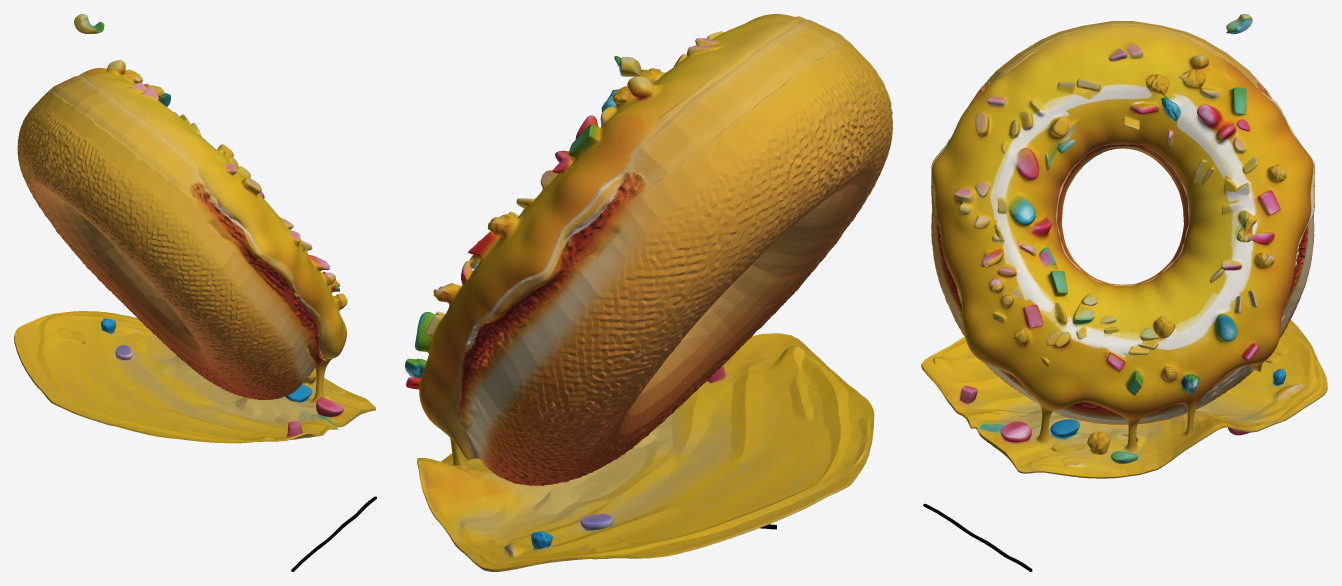
File: yellow-donut.glb
The picture shows the model from 3 angles, left to right: view 1: azimuth 30°, elevation 25°; view 2: azimuth 150°, elevation 25°; view 3: azimuth 270°, elevation 25°; orthographic projection. The views are drawn at different scales.
Visible parts, largest first — view 1: tripo_node_e78b38f3-3c6e-481e-a868-85e893cf3ef0; view 2: tripo_node_e78b38f3-3c6e-481e-a868-85e893cf3ef0; view 3: tripo_node_e78b38f3-3c6e-481e-a868-85e893cf3ef0.
Part boxes in pixels (x1,y1,x2,y2): tripo_node_e78b38f3-3c6e-481e-a868-85e893cf3ef0: (14, 14, 376, 571); tripo_node_e78b38f3-3c6e-481e-a868-85e893cf3ef0: (405, 14, 892, 571); tripo_node_e78b38f3-3c6e-481e-a868-85e893cf3ef0: (921, 14, 1327, 571).
Bounding box in the file's own units: 0.6508 × 0.9996 × 0.7926.
1 material, 1 textured.
